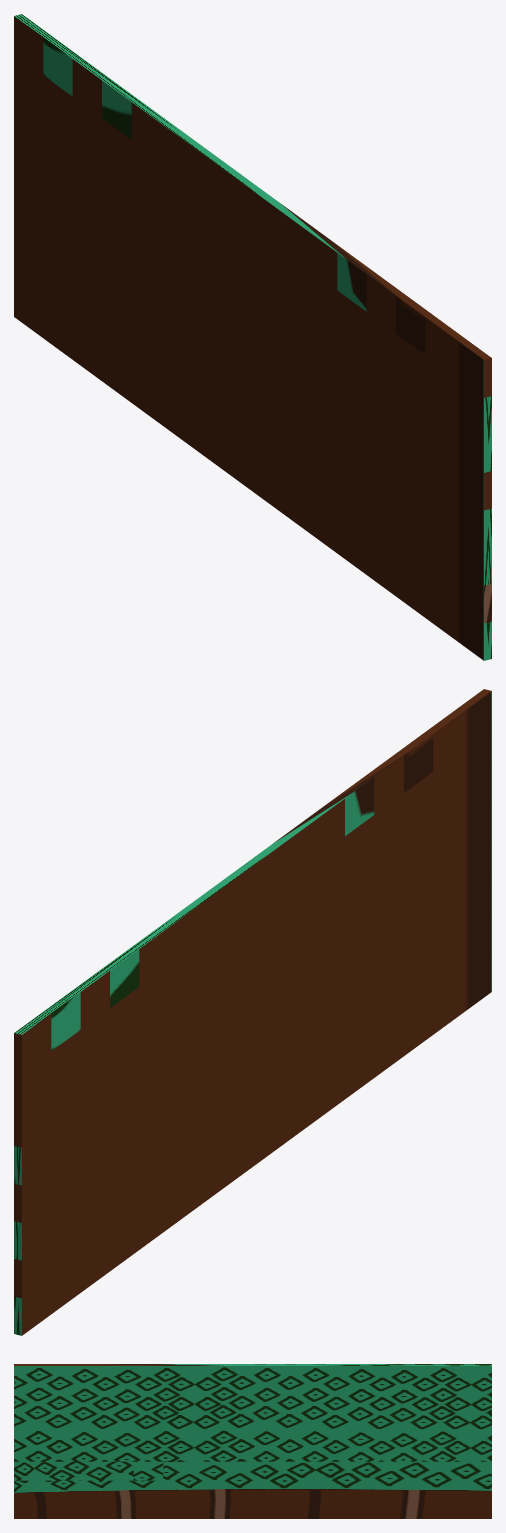
The model's file is wallboard.fbx.
3 views of the same model, one above another, from view 1: azimuth 30°, elevation 25°; view 2: azimuth 150°, elevation 25°; view 3: azimuth 270°, elevation 25° (orthographic). The views are drawn at different scales.
Visible parts, largest first — view 1: Cube.001; view 2: Cube.001; view 3: Cube.001.
Part boxes in pixels (x1,y1,x2,y2): Cube.001: [14, 14, 491, 660]; Cube.001: [14, 689, 491, 1335]; Cube.001: [14, 1364, 491, 1518].
Size of the model in its own units: 24.2 by 877 by 2484.
Materials: 2 (2 with a texture image).
